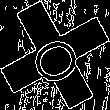O_NE: (22, 24, 88, 86)
